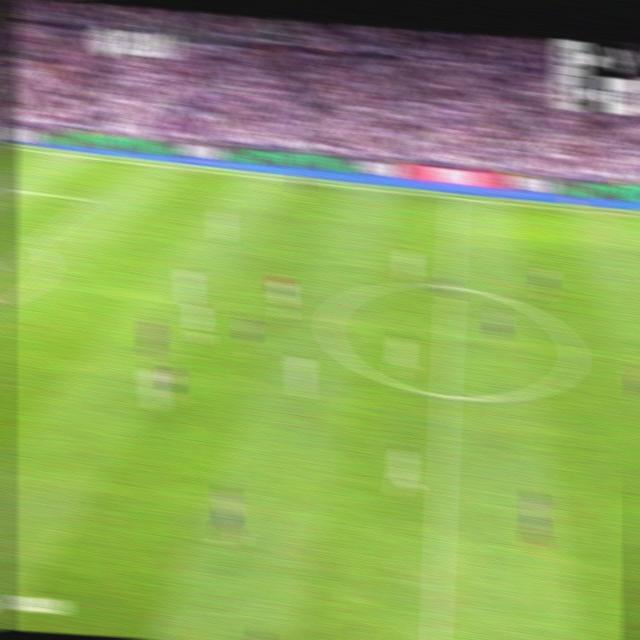bigarea_top_inner: (84, 191, 102, 208)
halfcircle_bottom: (434, 379, 456, 410)
halfcircle_top: (439, 276, 459, 295)
midline_top_intersection: (446, 188, 462, 206)
top_arc_area_intersection: (27, 234, 44, 251)
